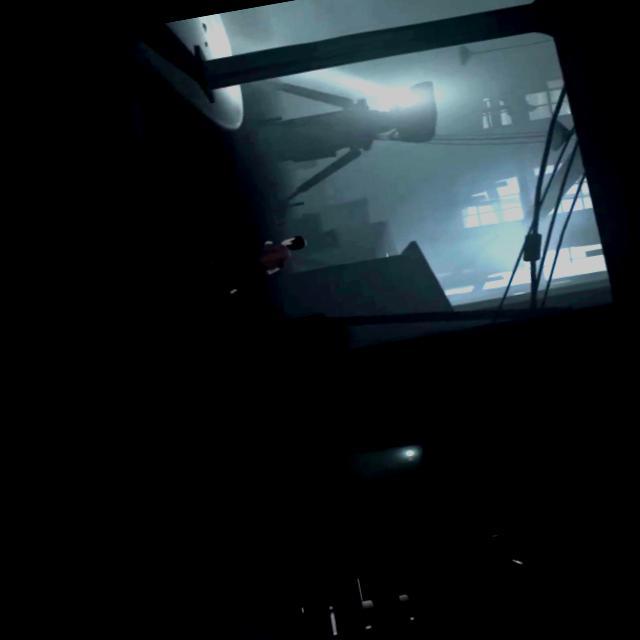boy: (198, 234, 312, 298)
zombie: (94, 153, 184, 298)
